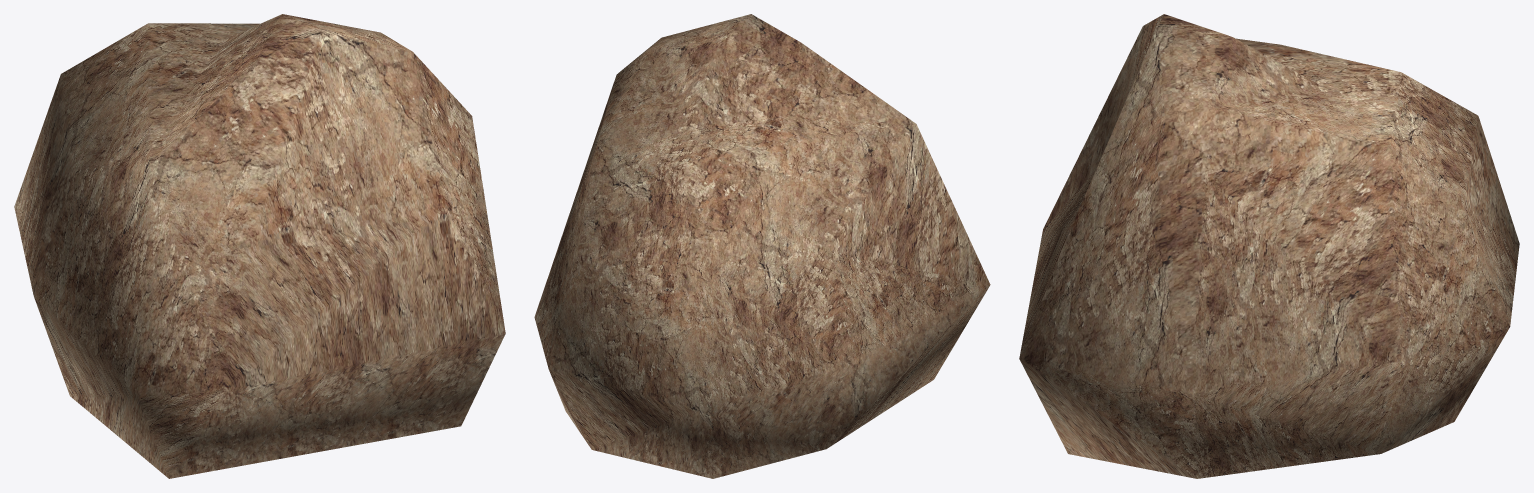
The model's file is rock_tatt_boulder_tan_l3.fbx.
3 renders of one model, left to right at view 1: azimuth 30°, elevation 25°; view 2: azimuth 150°, elevation 25°; view 3: azimuth 270°, elevation 25°, orthographic. The views are drawn at different scales.
Parts seen in each view (by area): view 1: mesh_node; view 2: mesh_node; view 3: mesh_node.
Boxes of the visible parts, box(x1,y1,x2,y2) form: mesh_node: box(14, 14, 505, 478); mesh_node: box(534, 14, 990, 478); mesh_node: box(1019, 14, 1519, 478).
Size of the model in its own units: 4.85 by 4.87 by 5.17.
